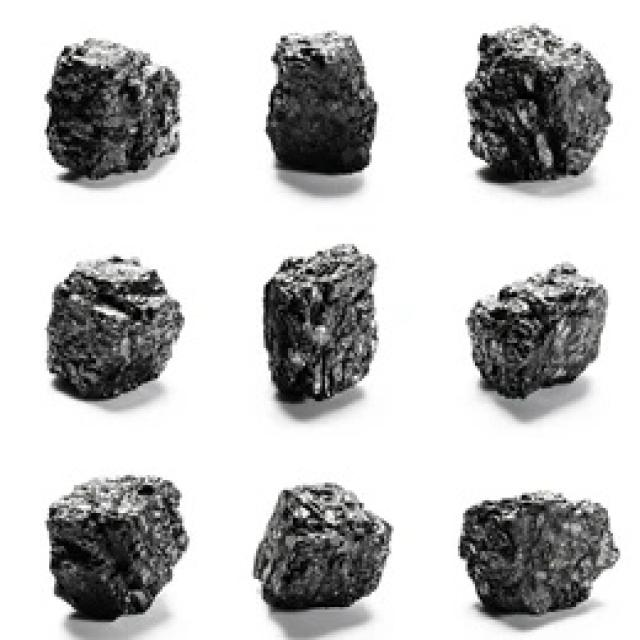Sedimentary: (450, 480, 638, 630), (463, 16, 625, 190), (42, 244, 194, 406), (42, 472, 199, 628), (248, 477, 408, 625), (37, 38, 199, 183), (456, 254, 610, 404), (258, 236, 376, 409), (261, 28, 389, 185)
